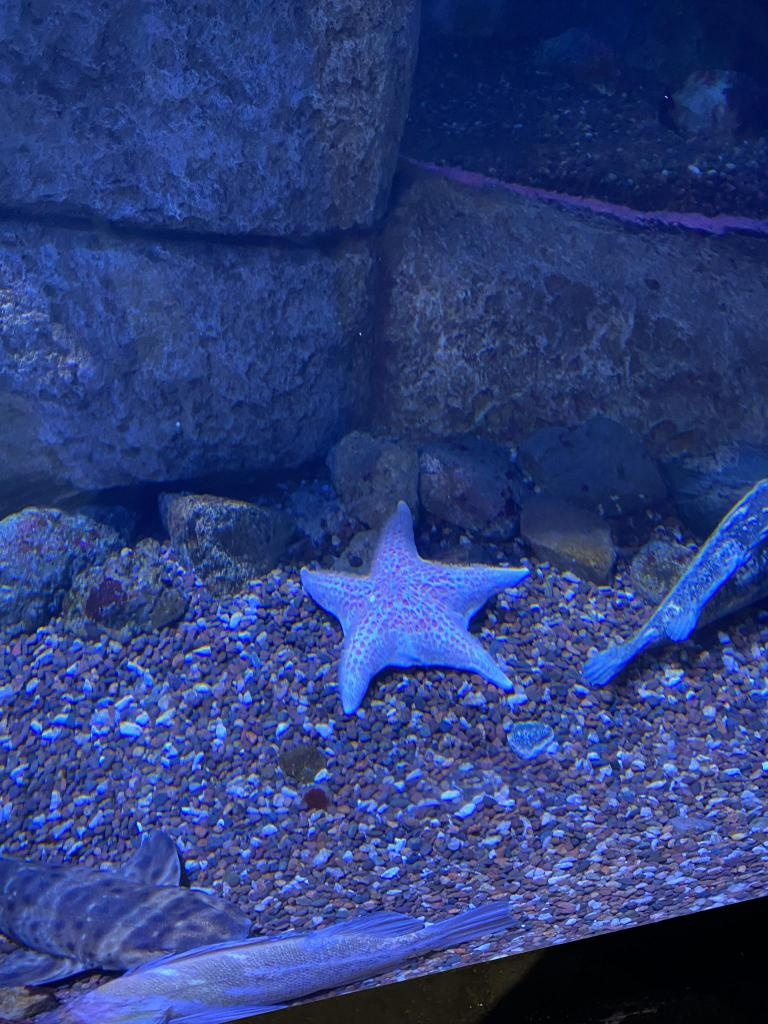fish: (15, 881, 510, 1023), (572, 470, 768, 690)
starfish: (298, 516, 518, 720)
